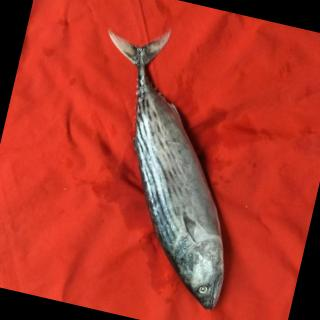Ikan: (51, 15, 293, 320)
